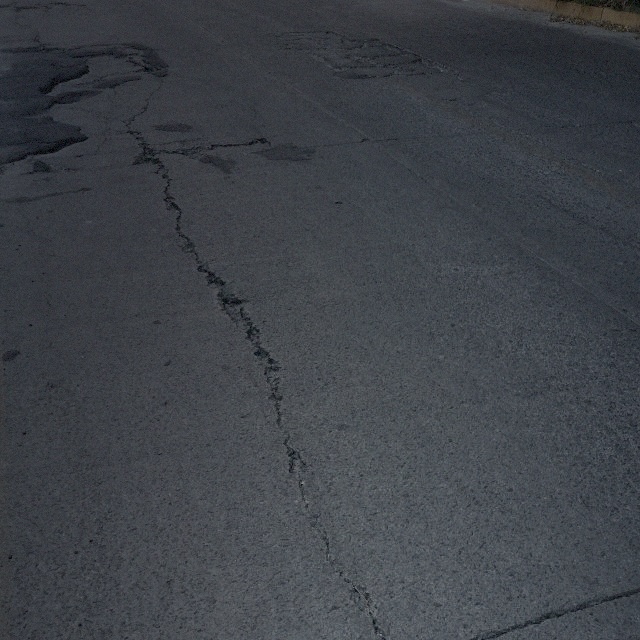pothole: (41, 49, 135, 103), (218, 280, 249, 324), (136, 143, 160, 163), (139, 63, 155, 76)
